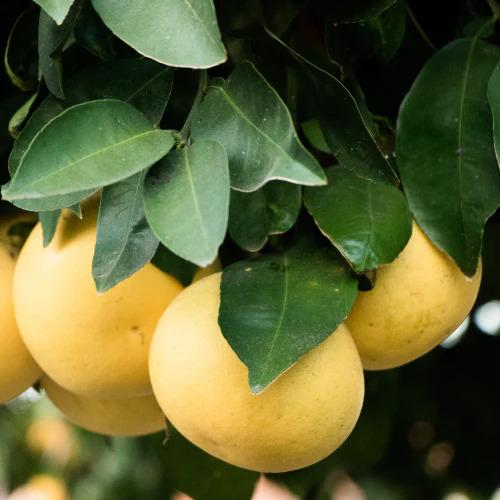Healthy Citrus: (395, 30, 500, 275), (0, 97, 176, 206), (190, 69, 330, 190), (234, 242, 361, 370), (146, 133, 231, 264), (77, 0, 233, 68), (304, 162, 404, 257), (101, 179, 156, 260)
